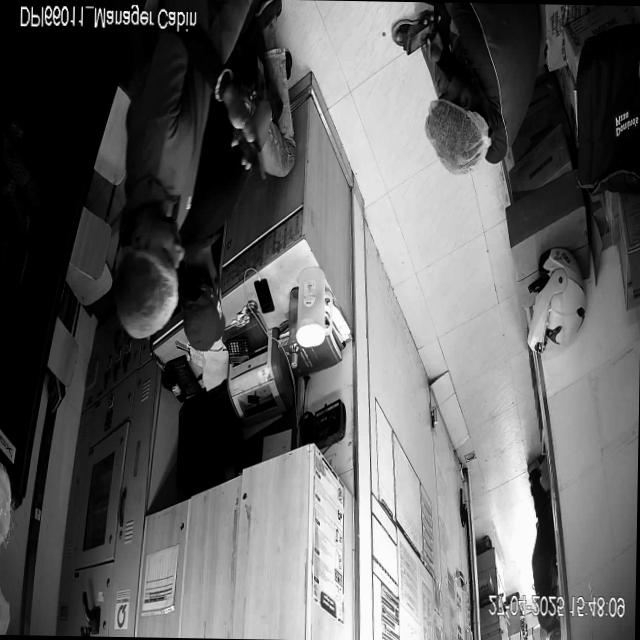helmet: (526, 246, 587, 355), (181, 246, 225, 352)
no_helmet: (113, 201, 183, 340), (423, 70, 492, 173)
